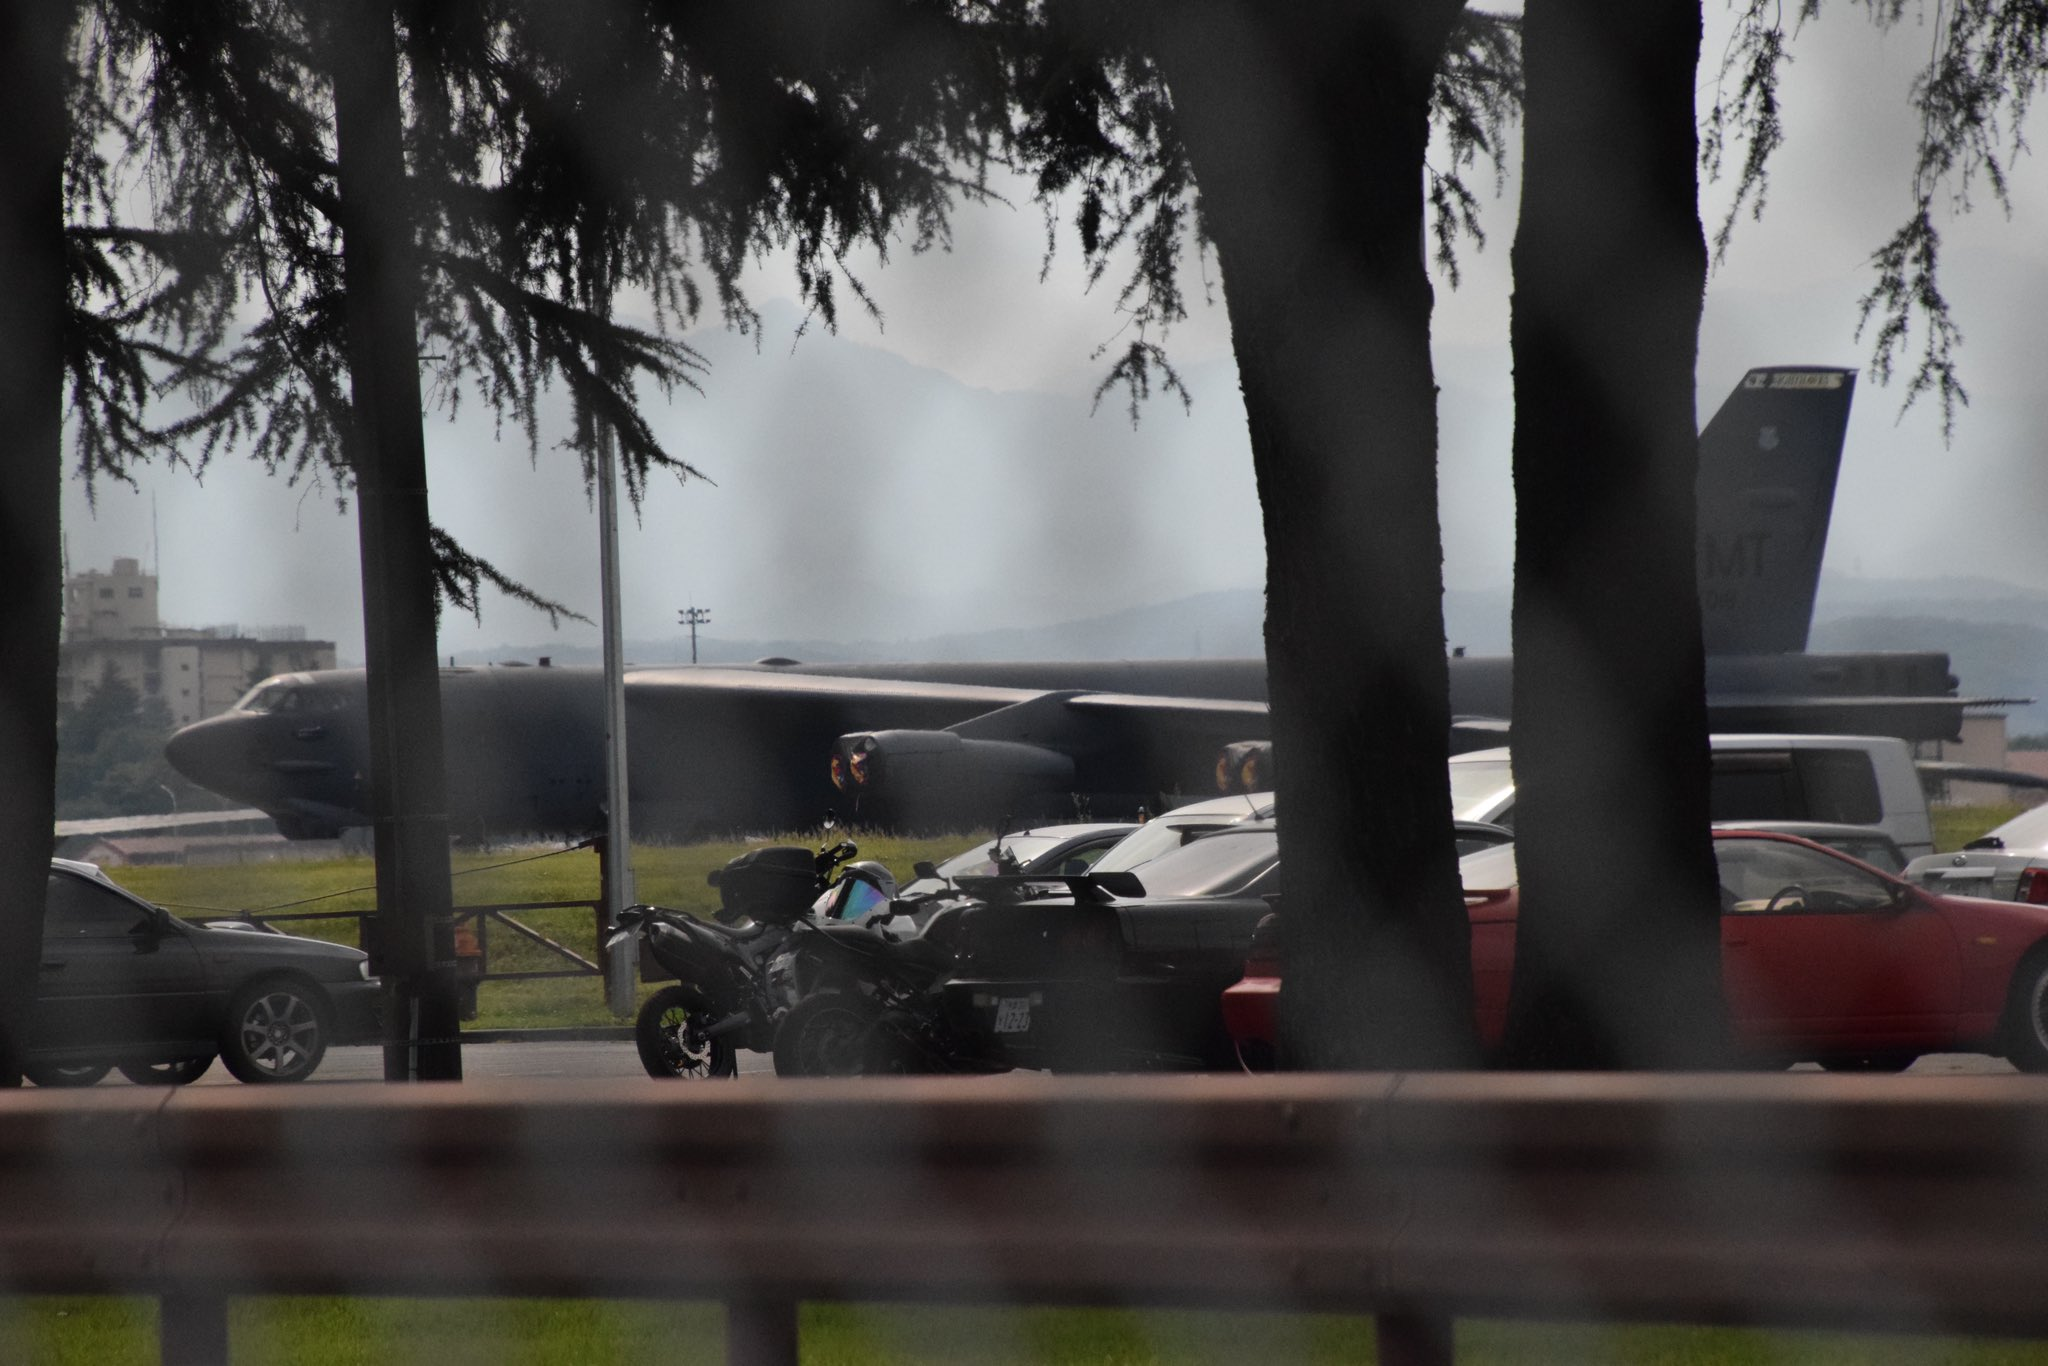B52: (165, 364, 2048, 849)
